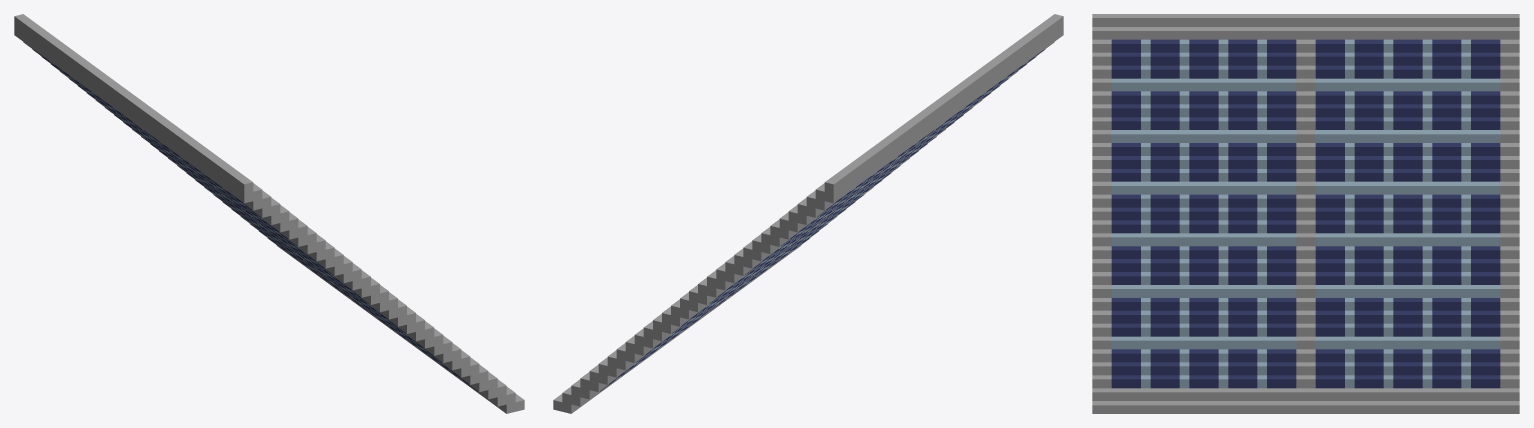
Rendered from energetic-dao-single-right-panel.glb.
3 views of the same model, side by side, from view 1: azimuth 30°, elevation 25°; view 2: azimuth 150°, elevation 25°; view 3: azimuth 270°, elevation 25° (orthographic). The views are drawn at different scales.
Parts seen in each view (by area): view 1: roof-panel-right.002; view 2: roof-panel-right.002; view 3: roof-panel-right.002.
Part boxes in pixels (bbox=[...]): roof-panel-right.002: bbox=[14, 14, 524, 413]; roof-panel-right.002: bbox=[553, 14, 1063, 413]; roof-panel-right.002: bbox=[1092, 14, 1519, 413].
Bounding box in the file's own units: 3.1 × 3.1 × 4.4.
Materials: 1 (1 with a texture image).
